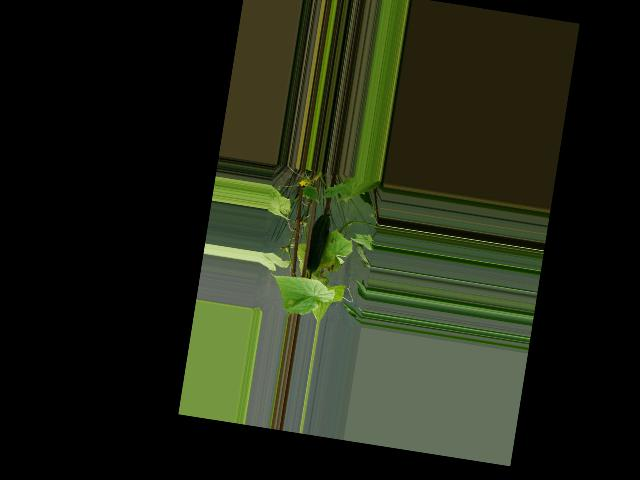cucumber: (305, 212, 331, 274)
